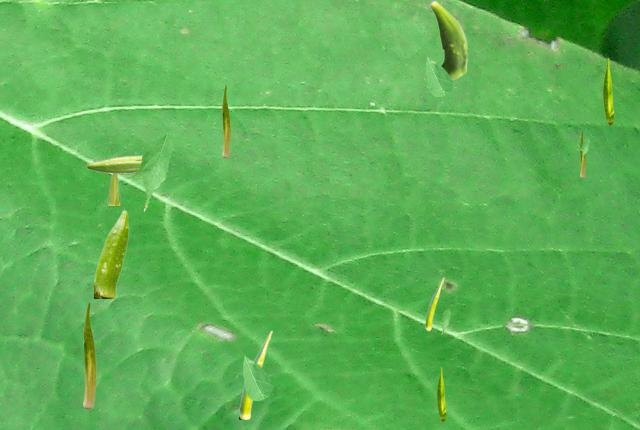okra: (429, 0, 467, 79), (94, 209, 128, 297), (239, 330, 271, 418), (83, 302, 95, 407), (425, 277, 443, 330), (86, 155, 142, 172), (603, 58, 613, 124), (222, 85, 229, 156), (437, 367, 445, 420), (106, 173, 119, 204), (580, 131, 584, 176)
